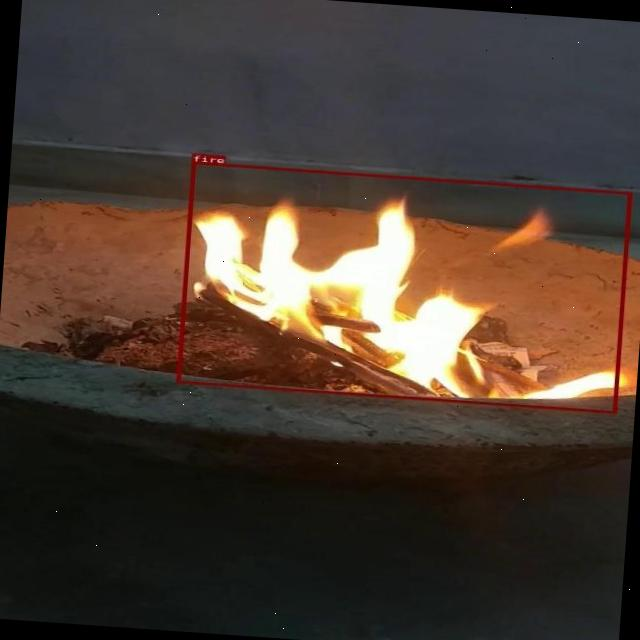fire: (175, 160, 630, 412)
